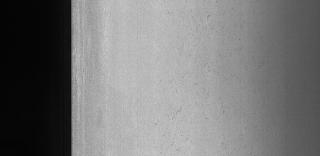silk spot: (162, 5, 236, 123)
